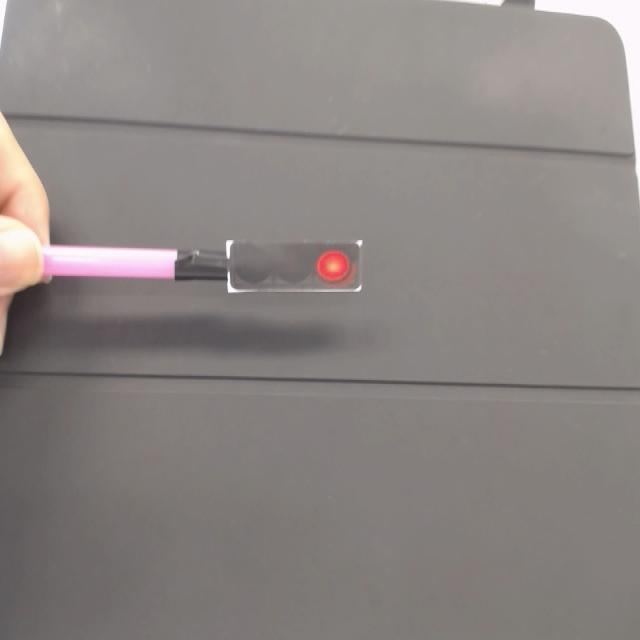traffic light: (227, 235, 370, 299)
